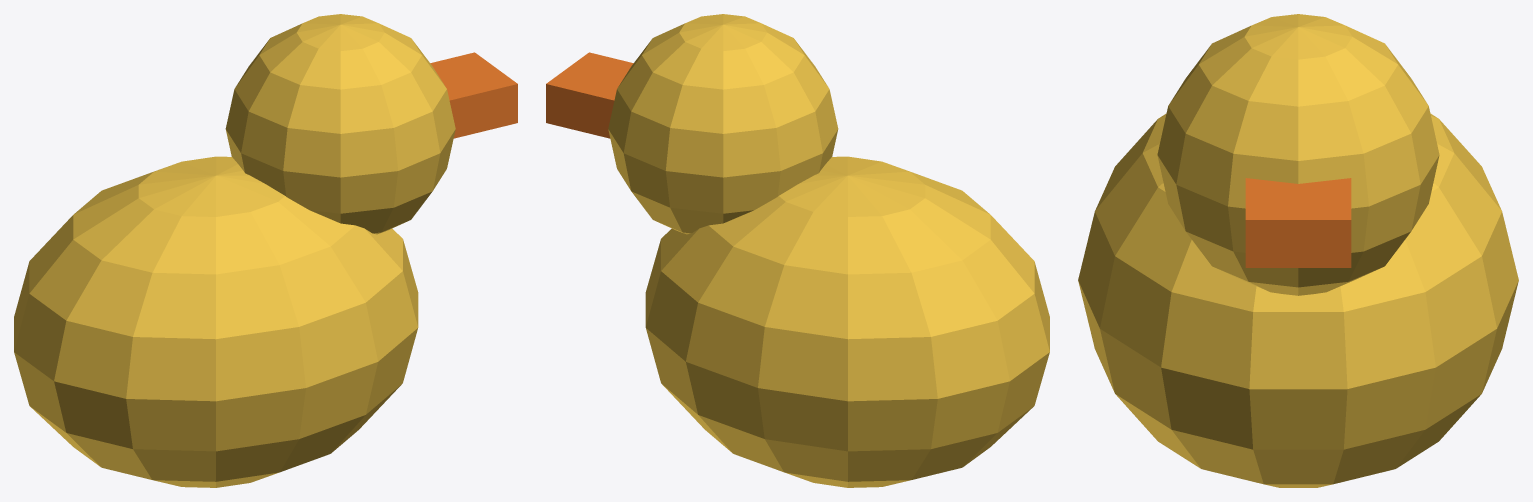
Rendered from squeaky_toy.glb.
The picture shows the model from 3 angles, left to right: view 1: azimuth 30°, elevation 25°; view 2: azimuth 150°, elevation 25°; view 3: azimuth 270°, elevation 25°; orthographic projection. The views are drawn at different scales.
Parts seen in each view (by area): view 1: squeaky_toy; view 2: squeaky_toy; view 3: squeaky_toy.
Boxes of the visible parts, x1,y1,x2,y2 form: squeaky_toy: (14,14,517,487); squeaky_toy: (546,14,1049,487); squeaky_toy: (1078,14,1518,487).
Size of the model in its own units: 0.1485 by 0.127 by 0.1.
